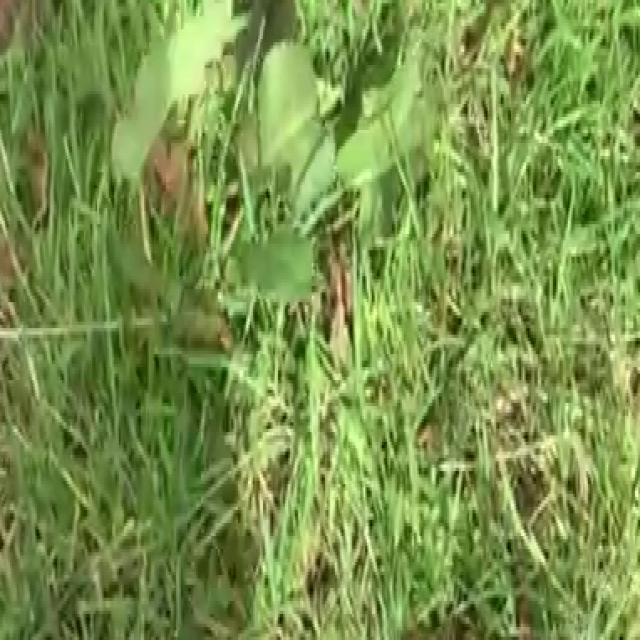organic waste: (120, 0, 480, 393)
